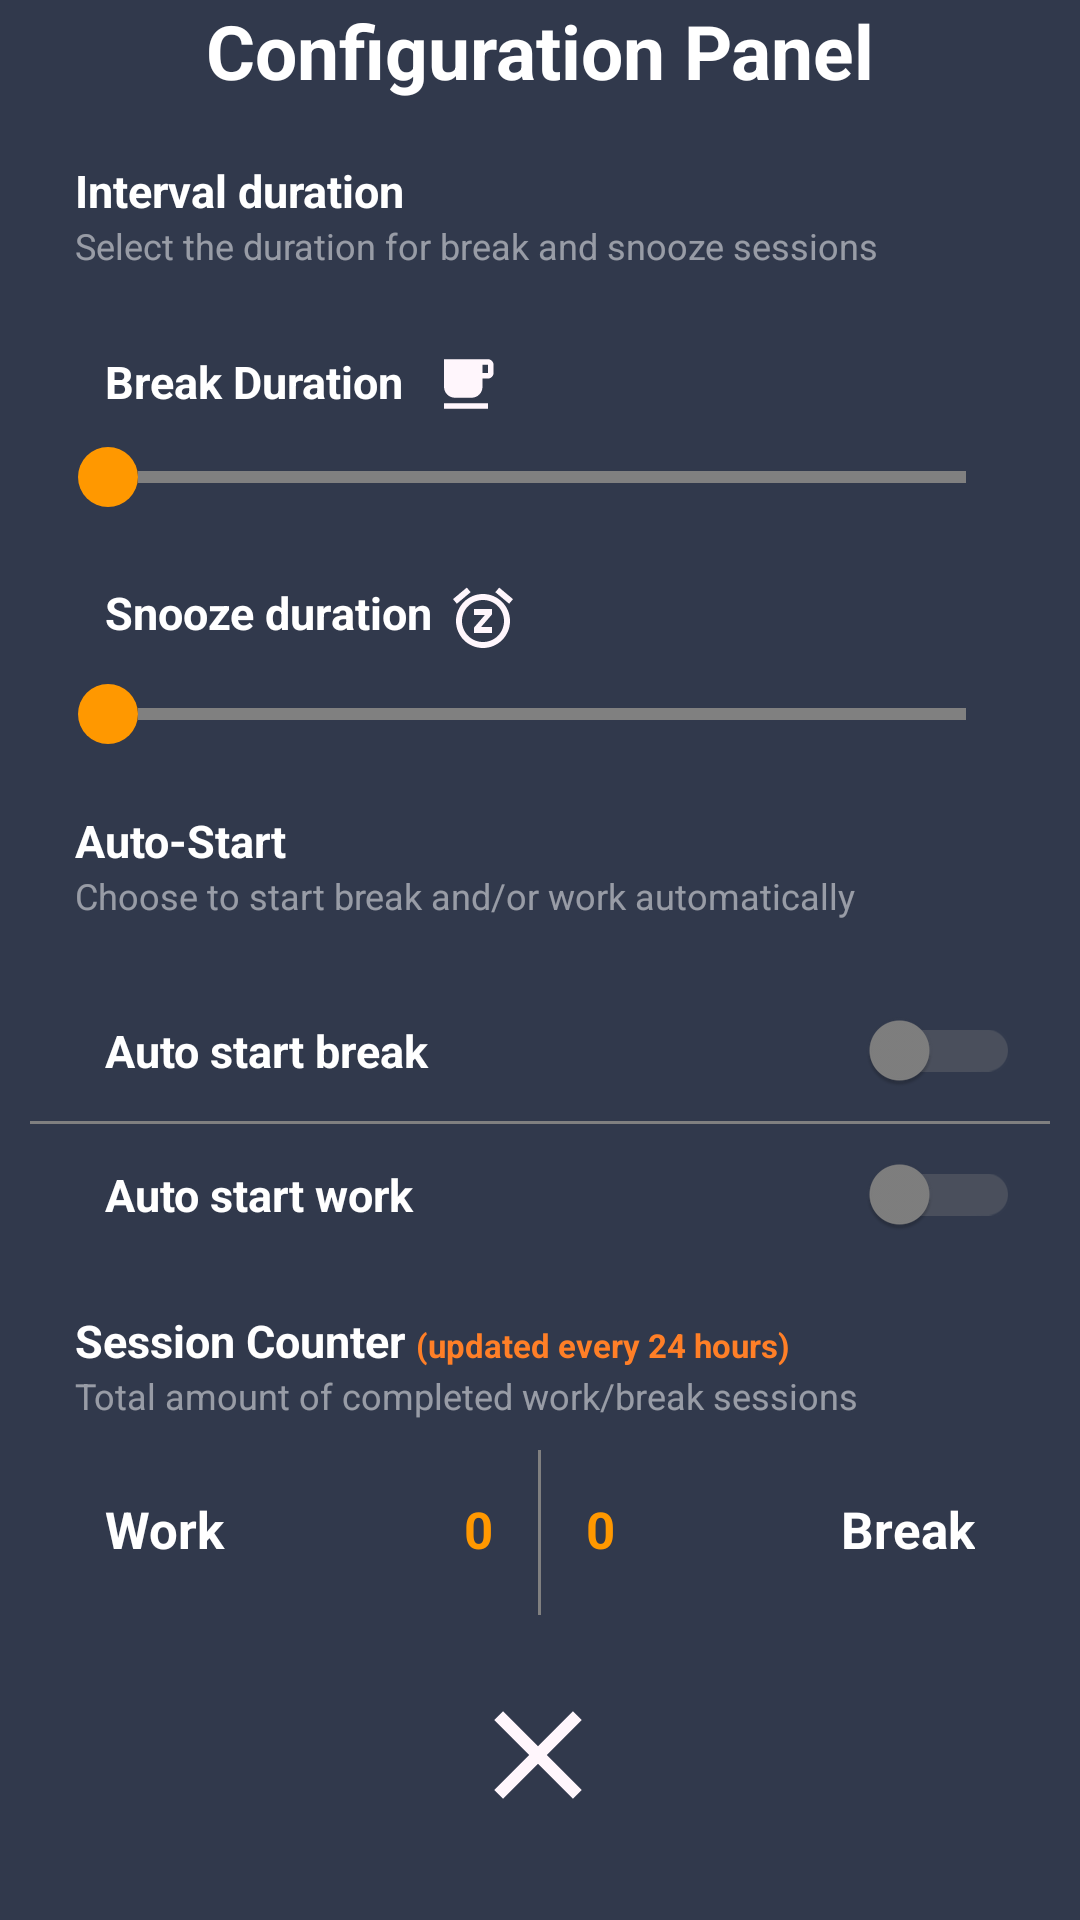

Where to tap for icons on this 1080×1920 app screen, as [x,y]:
close: [538,1755]
